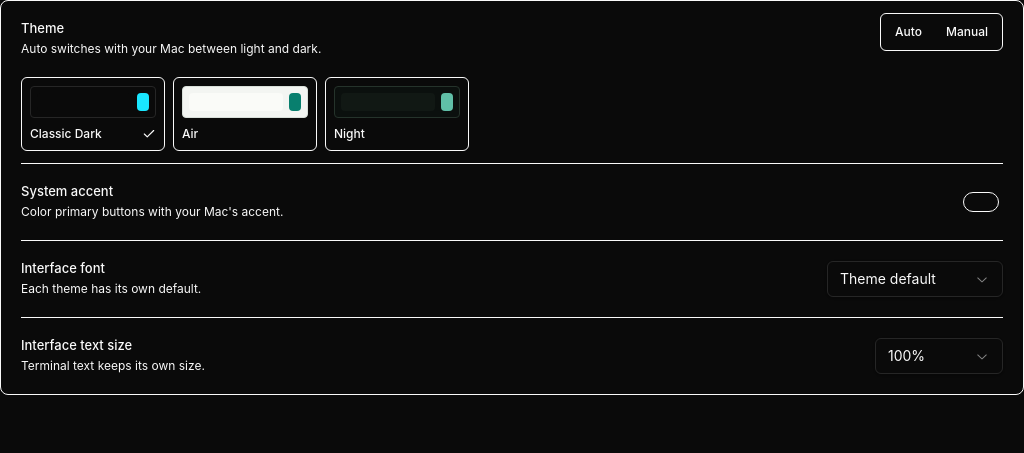
Scenario: AppearanceSettings › reports a persistence failure and re-enables controls
What coordinates should you click on to do the following:
click the switch named "Use system accent"
I would click on:
 (981, 202)
Its box is [959,180,1003,224].
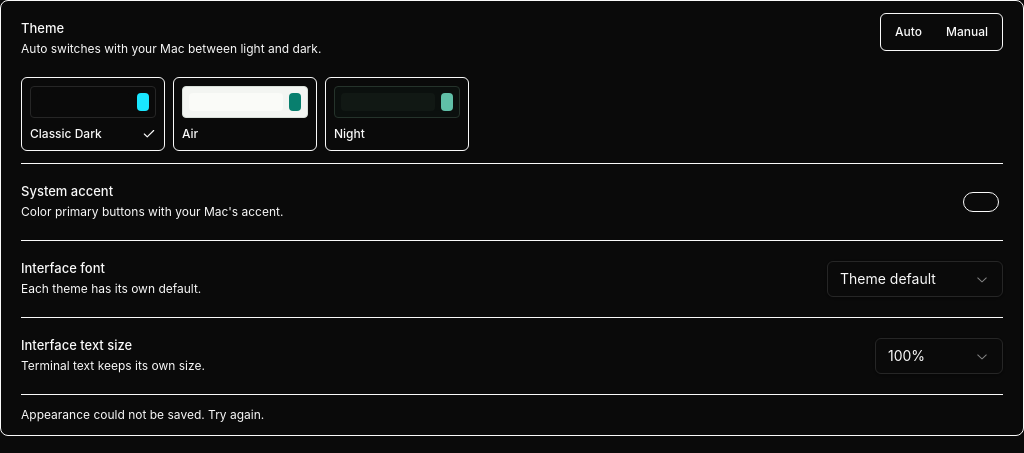
Now the text "Appearance could not be saved. Try again." is shown, box [21,407,264,422]
